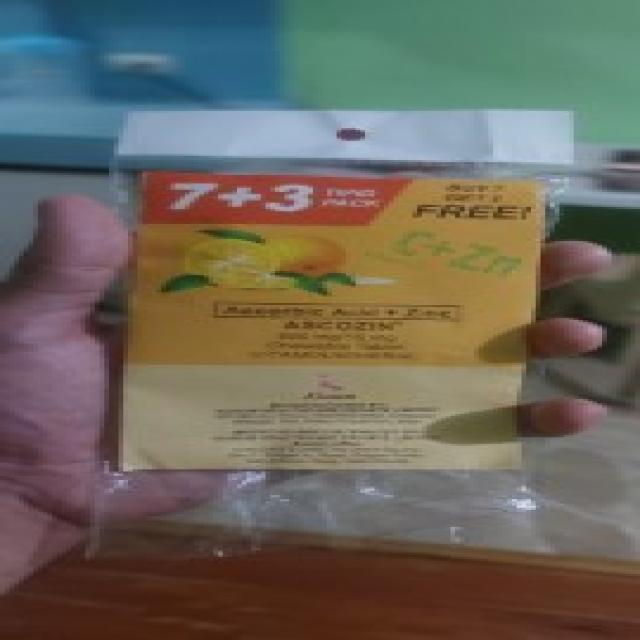Cacat: (118, 111, 550, 552)
